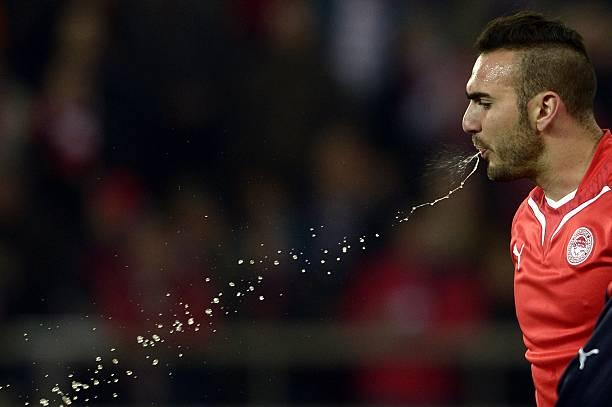Spitting: (377, 0, 607, 192)
